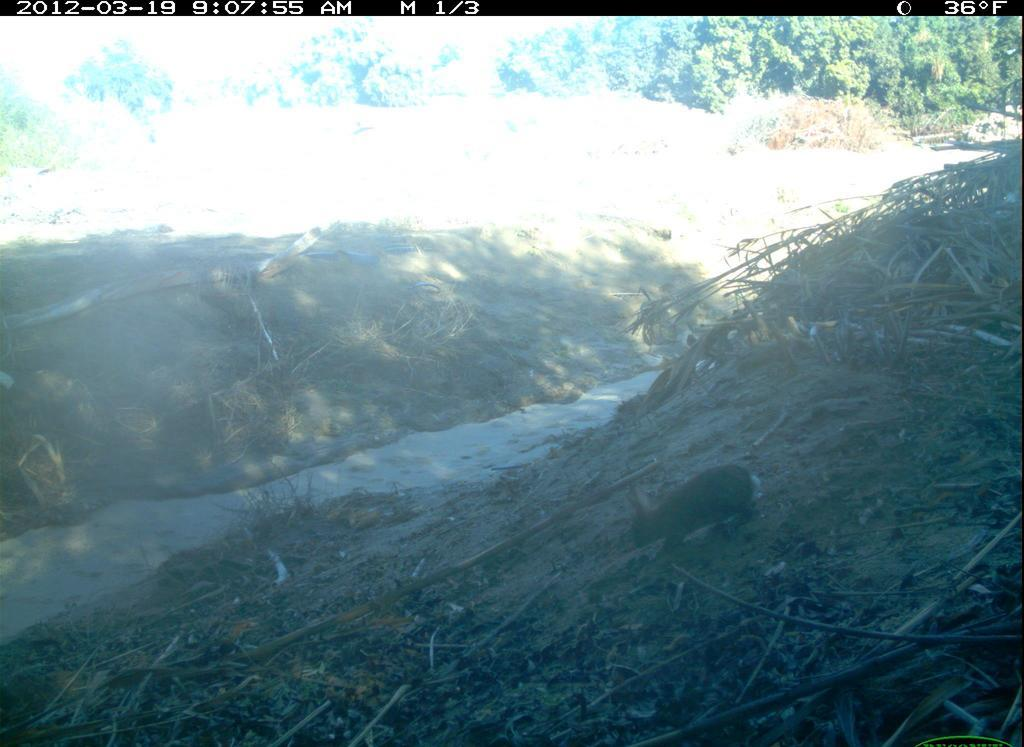rabbit: (615, 452, 780, 568)
